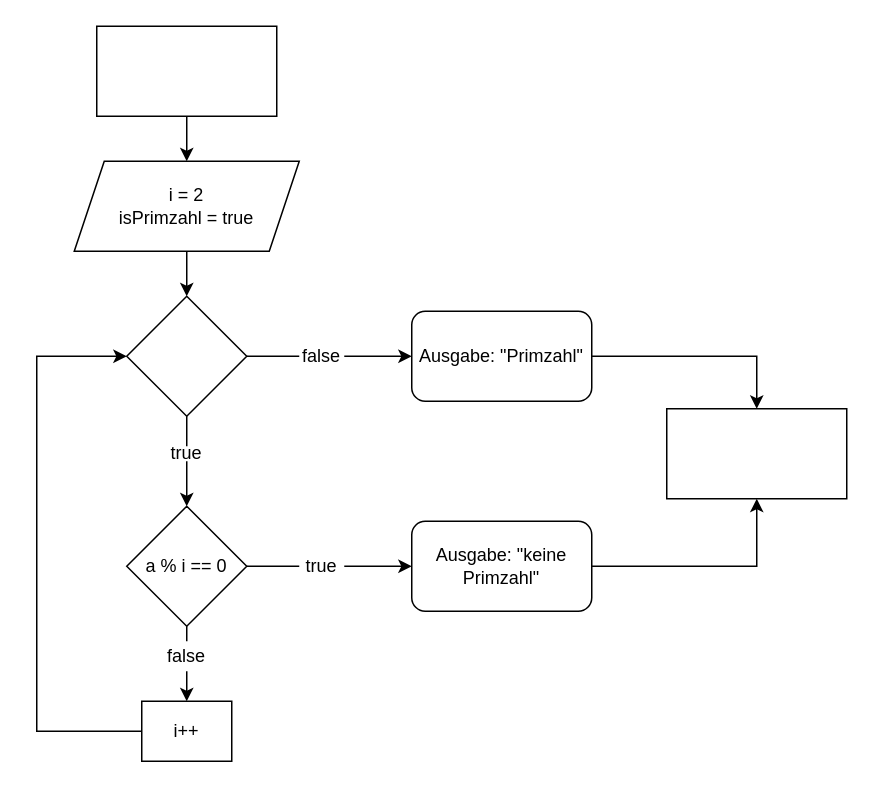
Image size: 873x788. Some labels were removed from this diagram. The shapes that lost their labels are listed below. From the top down, each one's centre as x and y in pixels, then its label:
At point 186,70: "int a einlesen".
At point 186,355: "i < a".
At point 756,453: "Ende".
